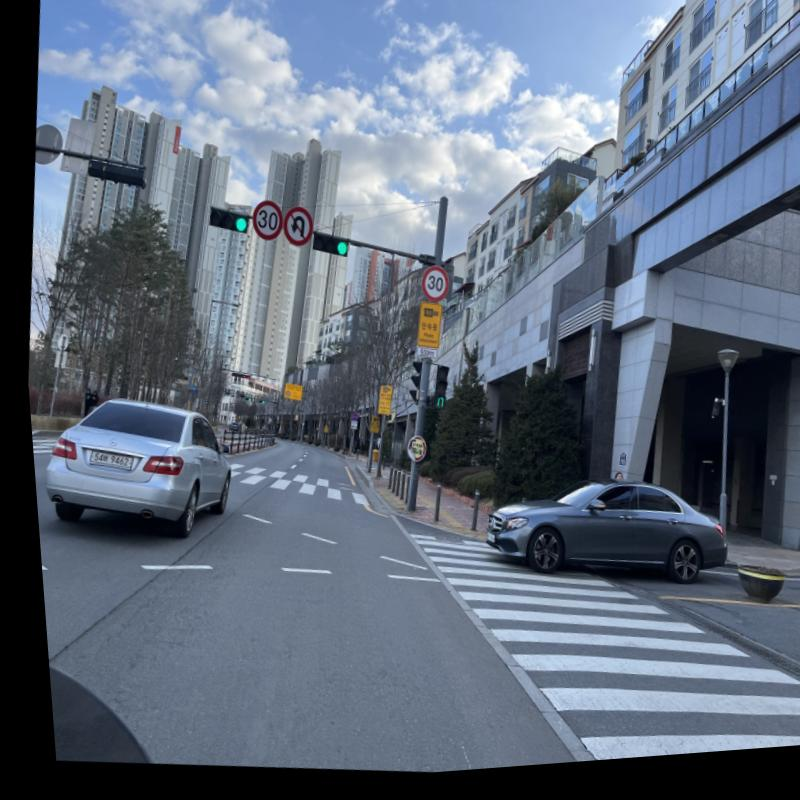green: (229, 220, 244, 236), (331, 245, 344, 261)
